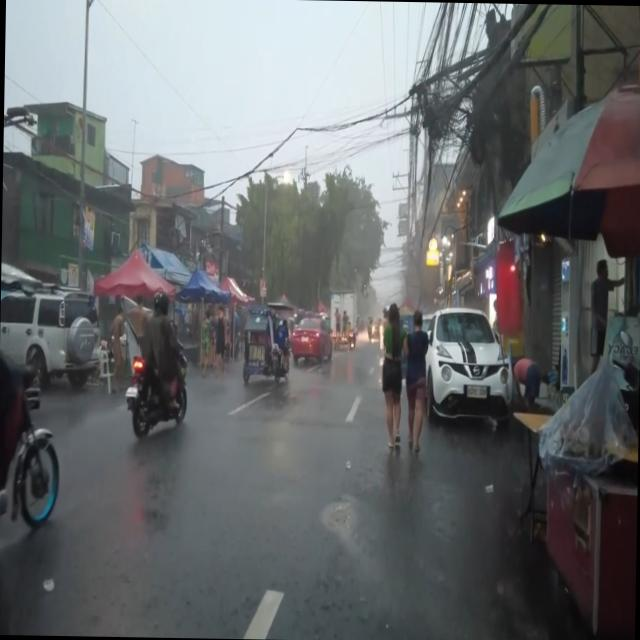full: (153, 288, 170, 318)
